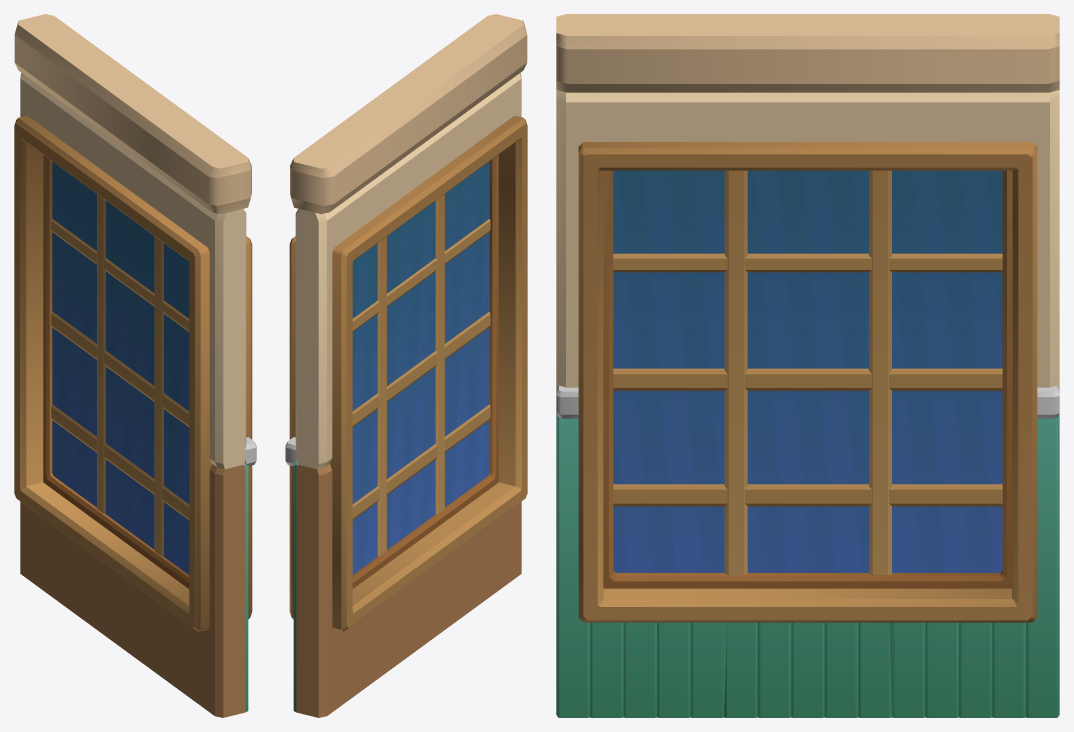
File: Wall_A_14.glb
3 renders of one model, left to right at view 1: azimuth 30°, elevation 25°; view 2: azimuth 150°, elevation 25°; view 3: azimuth 270°, elevation 25°, orthographic. The views are drawn at different scales.
Visible parts, largest first — view 1: Wall_A_14; view 2: Wall_A_14; view 3: Wall_A_14.
Boxes of the visible parts, x1=… form: Wall_A_14: x1=14, y1=14, x2=256, y2=717; Wall_A_14: x1=285, y1=14, x2=527, y2=717; Wall_A_14: x1=556, y1=14, x2=1059, y2=717.
Bounding box in the file's own units: 0.3277 × 3 × 2.
2 materials, 2 textured.
